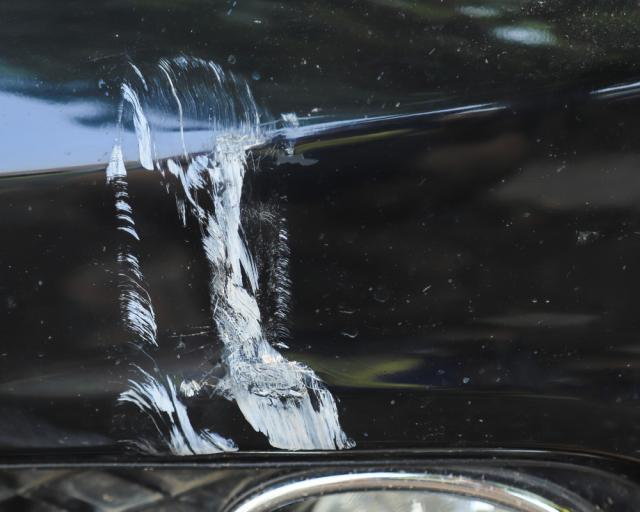scratch: (101, 53, 362, 457)
